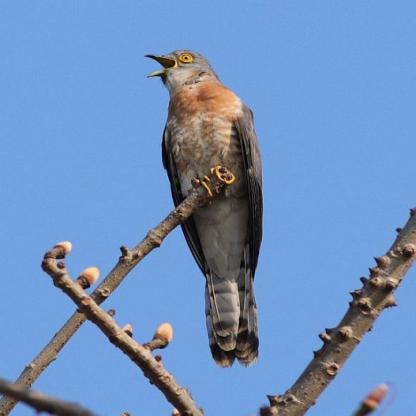Burung: (143, 49, 263, 367)
